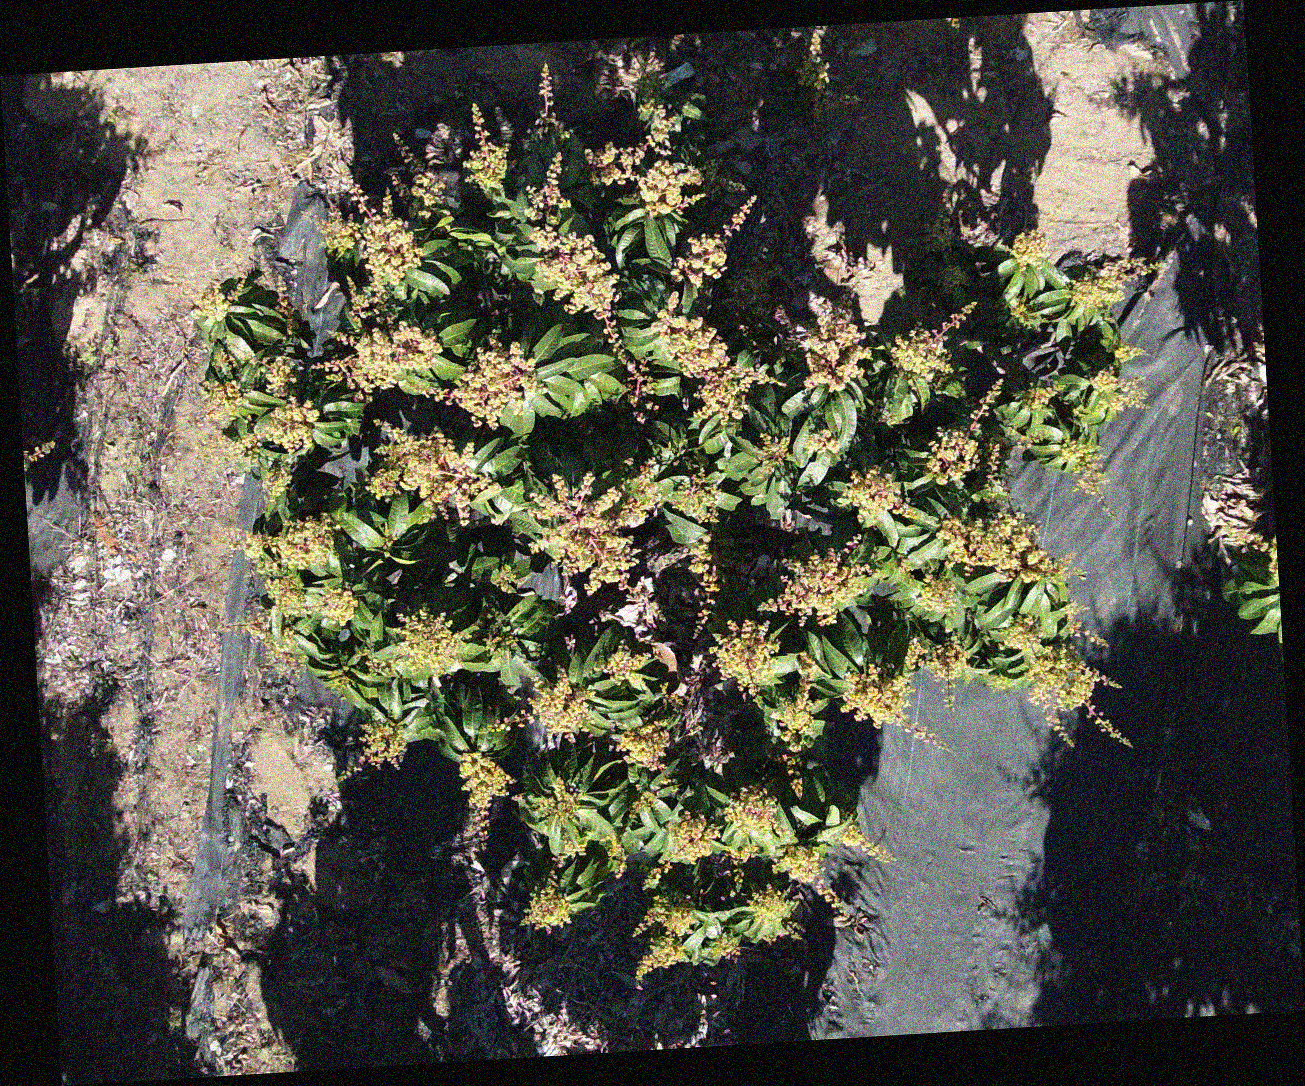flowers: (984, 612, 1127, 750), (531, 466, 662, 593), (654, 290, 768, 421), (529, 152, 616, 320), (367, 422, 493, 527), (586, 105, 702, 218), (244, 516, 356, 628), (936, 510, 1073, 585), (436, 335, 543, 429), (842, 664, 946, 753), (779, 842, 869, 944), (324, 196, 421, 287), (759, 550, 870, 628), (203, 400, 321, 474), (923, 382, 1006, 484), (330, 323, 444, 392), (669, 199, 760, 286), (890, 305, 978, 382), (369, 609, 463, 678), (493, 670, 589, 737), (461, 749, 515, 849), (712, 619, 781, 695), (395, 131, 449, 227), (662, 810, 754, 865), (804, 315, 869, 392), (776, 652, 823, 757), (907, 638, 968, 715), (1068, 257, 1159, 307), (464, 103, 509, 193), (841, 467, 913, 523), (1061, 438, 1108, 513), (794, 27, 830, 121), (346, 719, 408, 772), (529, 65, 569, 141), (634, 892, 696, 938), (522, 878, 574, 931), (749, 884, 798, 941), (618, 721, 672, 771), (725, 785, 776, 836), (671, 471, 720, 523), (1091, 367, 1147, 412), (635, 935, 685, 982), (841, 822, 894, 865), (603, 643, 652, 687), (538, 777, 582, 825), (1067, 600, 1109, 649), (204, 379, 245, 421), (689, 534, 718, 594), (916, 574, 956, 615), (195, 284, 237, 322), (263, 355, 301, 397), (1010, 230, 1049, 269), (700, 735, 735, 774), (757, 434, 790, 473), (922, 214, 955, 253), (484, 629, 518, 663), (242, 603, 272, 641), (263, 466, 293, 502), (276, 290, 299, 334), (555, 837, 587, 867), (1018, 386, 1058, 410), (491, 563, 521, 594), (607, 833, 628, 879), (804, 430, 840, 455), (643, 861, 673, 889), (715, 933, 741, 962), (1113, 341, 1146, 364), (630, 790, 658, 816), (324, 669, 350, 695), (478, 715, 519, 732), (940, 264, 965, 290), (1266, 536, 1278, 585), (875, 406, 903, 426), (167, 1006, 184, 1034), (211, 349, 236, 369), (380, 52, 405, 69), (1017, 435, 1041, 450), (564, 635, 577, 652)
